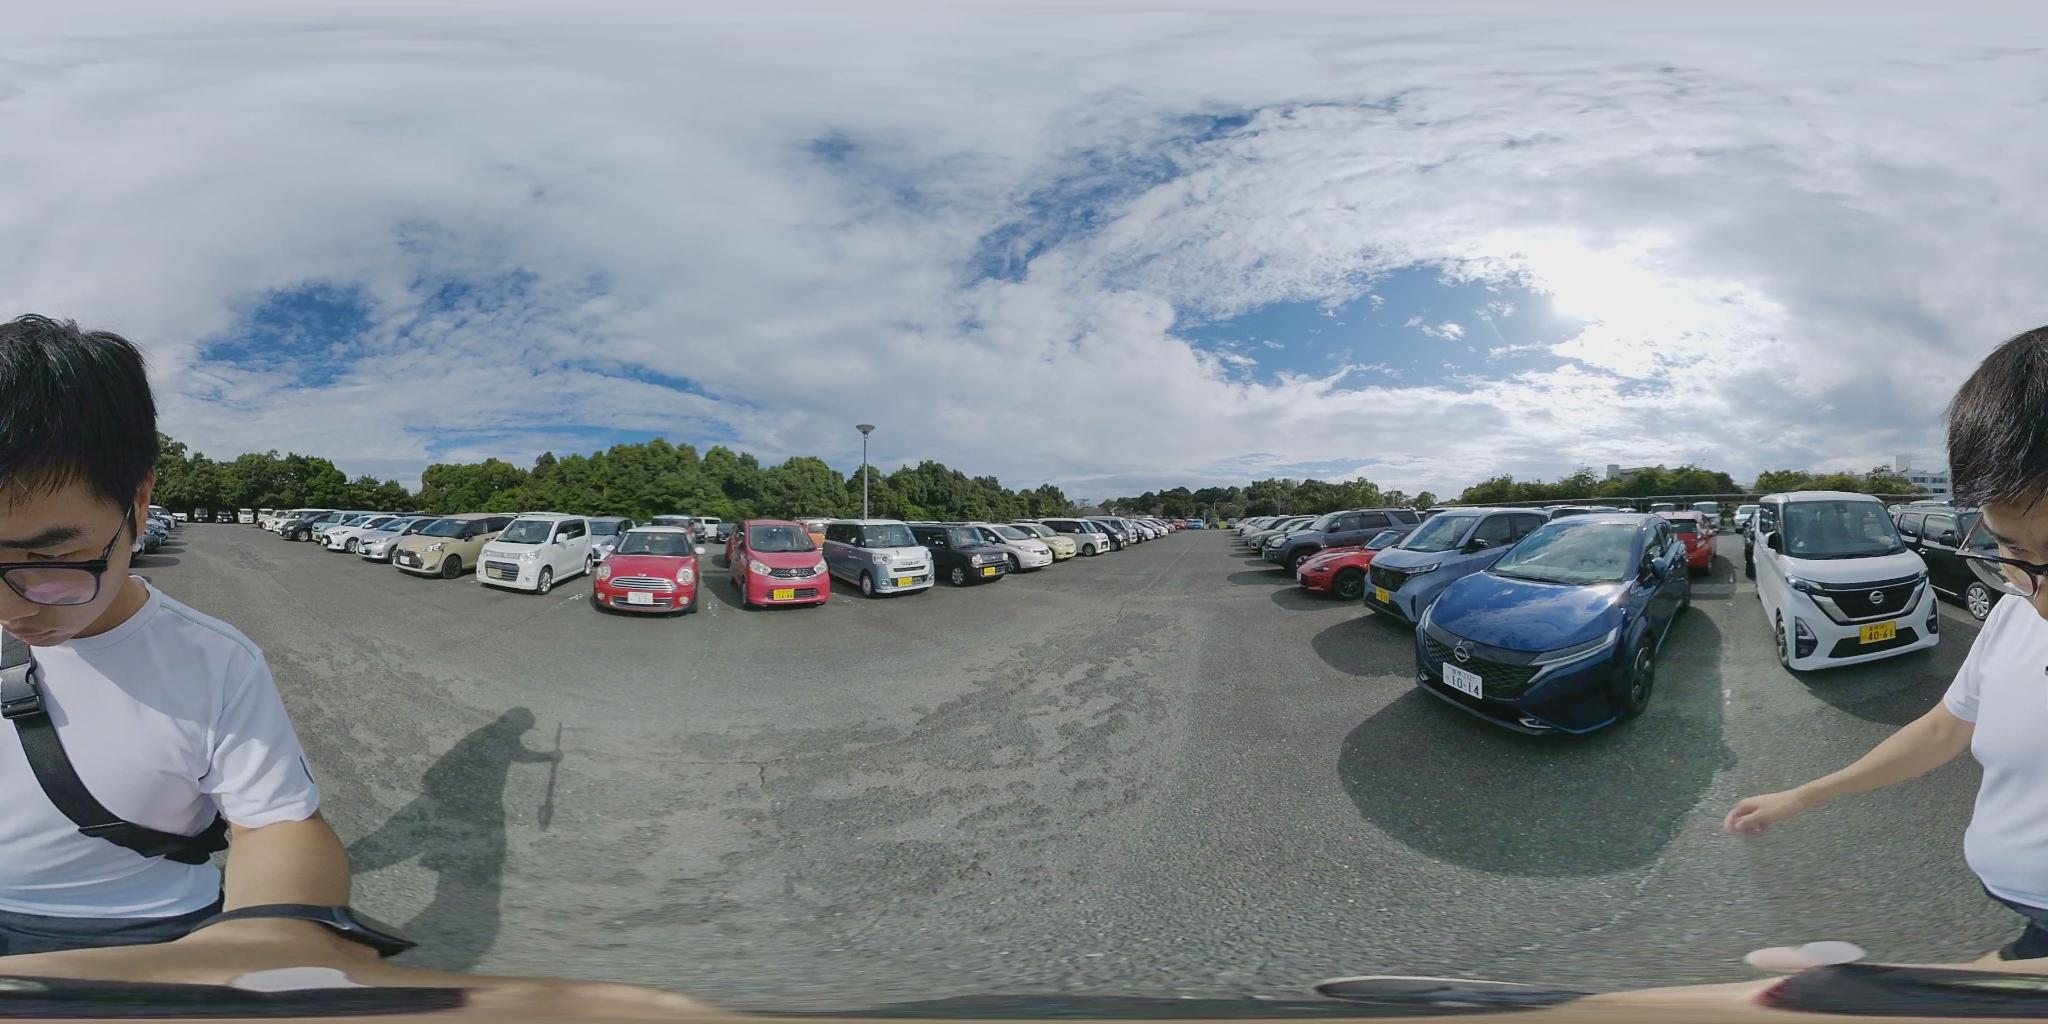car: (1409, 512, 1708, 737), (1354, 511, 1563, 627), (472, 516, 620, 593), (1285, 512, 1437, 580), (586, 534, 703, 616), (820, 525, 942, 600), (731, 520, 831, 606), (388, 516, 516, 575), (913, 521, 1017, 583), (961, 524, 1057, 572), (323, 515, 419, 556), (1016, 520, 1102, 560), (270, 515, 323, 542), (1172, 521, 1209, 533)
